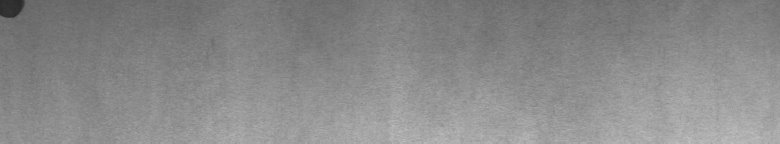fi: (4, 4, 29, 28)
